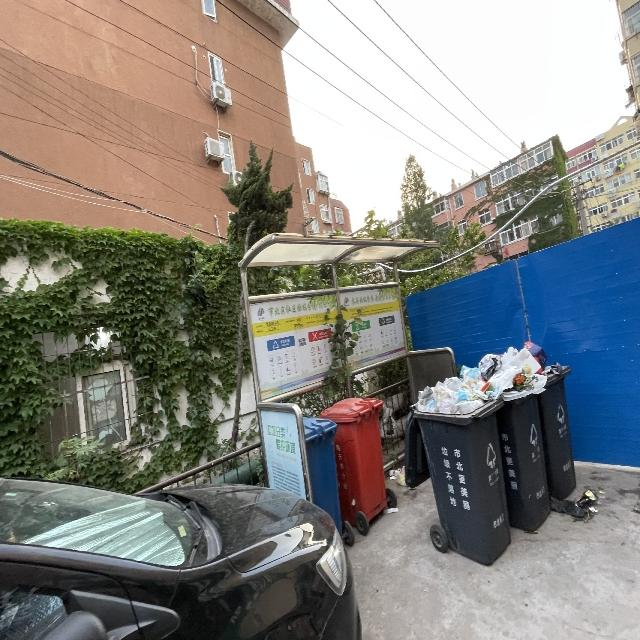garbage: (549, 487, 603, 523), (388, 466, 407, 485)
garbage_bin: (320, 396, 386, 526), (302, 414, 342, 538)
overflow: (404, 365, 512, 565), (479, 346, 550, 531), (523, 341, 576, 500)
